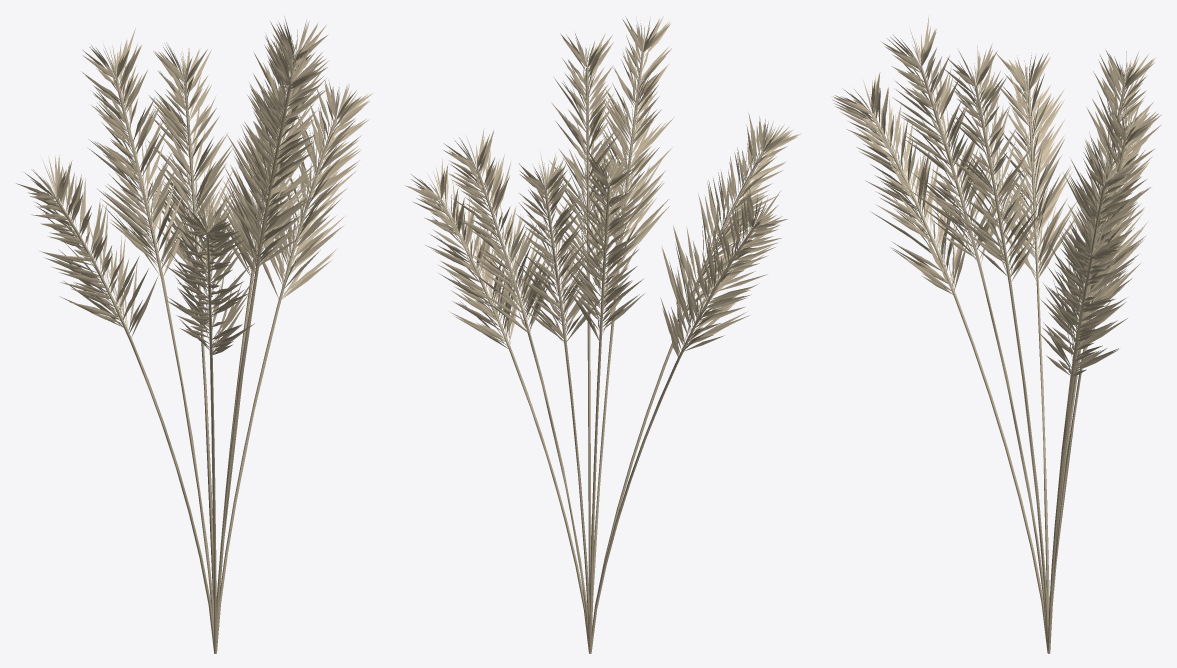
The model's file is pampas-2.glb.
3 views of the same model, side by side, from view 1: azimuth 30°, elevation 25°; view 2: azimuth 150°, elevation 25°; view 3: azimuth 270°, elevation 25° (orthographic). The views are drawn at different scales.
Parts seen in each view (by area): view 1: pampas-leaves, pampas-stems; view 2: pampas-leaves, pampas-stems; view 3: pampas-leaves, pampas-stems.
Boxes of the visible parts, x1,y1,x2,y2 form: pampas-leaves: [16, 16, 372, 355]; pampas-stems: [55, 61, 336, 653]; pampas-leaves: [405, 16, 801, 357]; pampas-stems: [440, 52, 763, 653]; pampas-leaves: [832, 15, 1161, 376]; pampas-stems: [873, 67, 1126, 653].
Bounding box in the file's own units: 0.4248 × 0.6962 × 0.3309.
